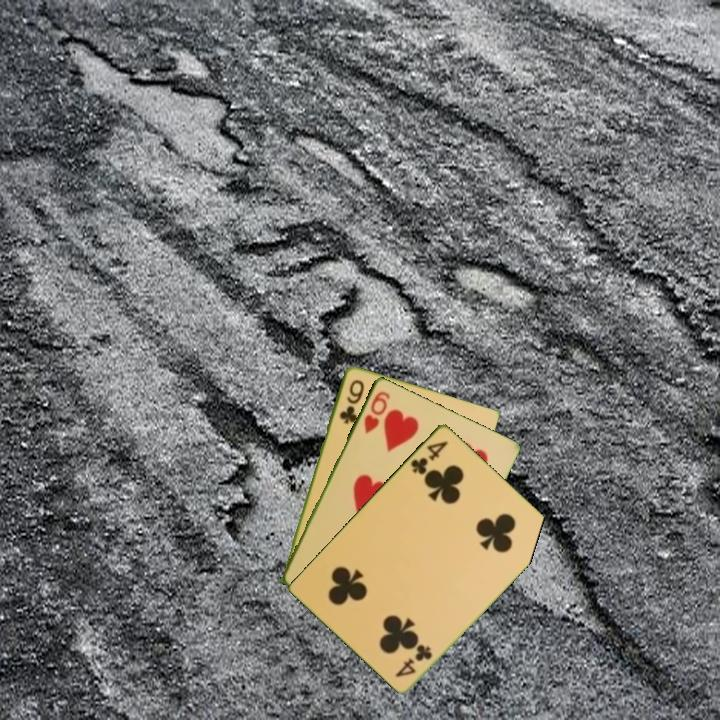4c: (407, 437, 451, 477), (391, 641, 435, 680)
6h: (360, 387, 393, 436)
9c: (336, 376, 367, 426)
